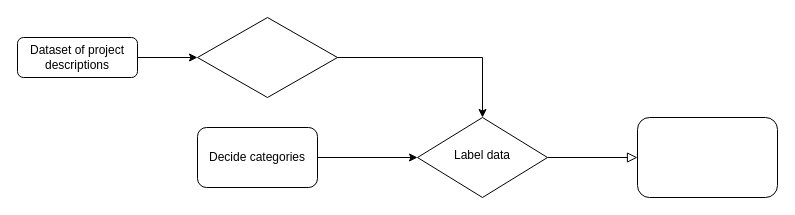
Some shapes in this 795 by 215 pixel diagram are drawn without their labels. Each missing label, with the centre of its shape:
Anonymise data: (x=267, y=57)
Predict label on new project description: (x=707, y=157)
